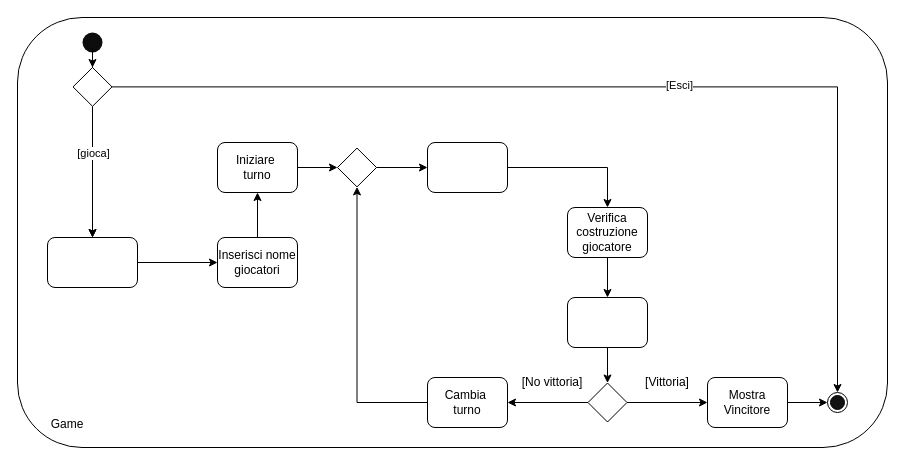
Image size: 905x465. Some labels were removed from this diagram. Here are the shapes that lost their labels. From the top down, the centre of each, then its label:
the point at 467,167: Verifica mosse giocatore
the point at 92,262: Iniziare partita
the point at 607,322: Verifica condizione di vittoria
